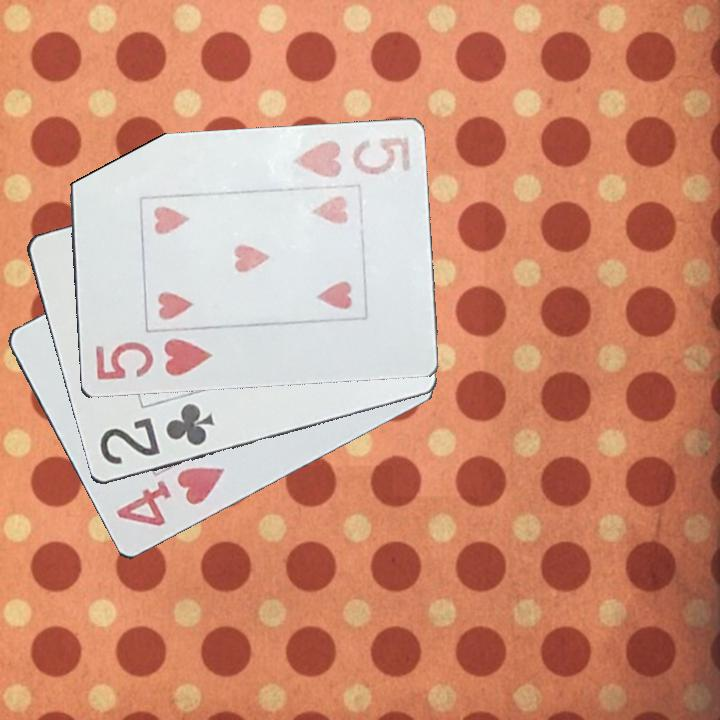2c: (95, 400, 218, 468)
4h: (112, 463, 228, 533)
5h: (287, 131, 413, 182), (91, 335, 216, 384)
